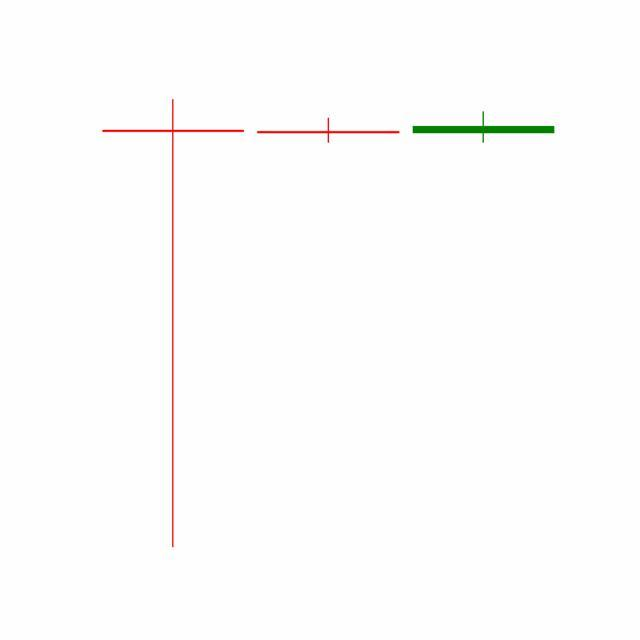Spinning Top: (250, 118, 407, 145)
